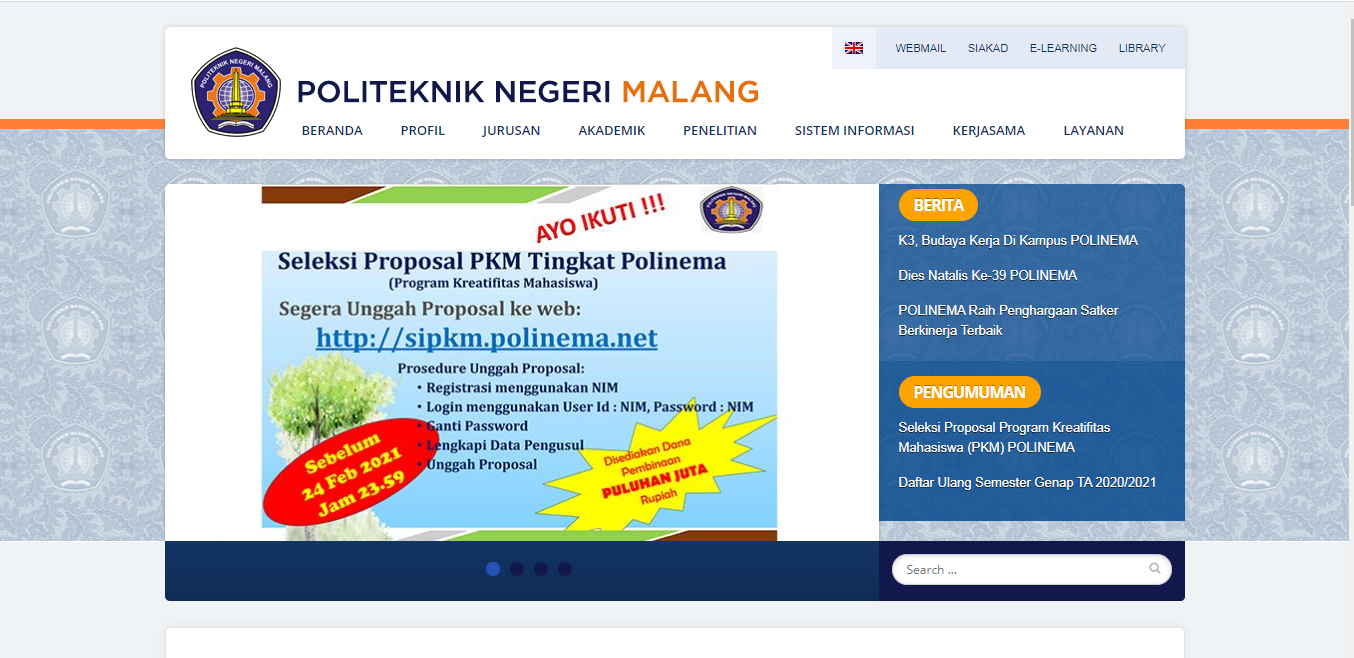Button: (893, 368, 1048, 418), (893, 187, 983, 222)
Image: (254, 182, 785, 540), (185, 40, 288, 142)
Menu Bar: (288, 111, 1145, 156)
Nav Bar: (1025, 27, 1106, 69), (880, 29, 955, 67), (1107, 29, 1184, 66), (956, 29, 1024, 69), (831, 25, 876, 67)
Side Bar: (876, 184, 1187, 520)
Text Field: (879, 542, 1184, 603)
